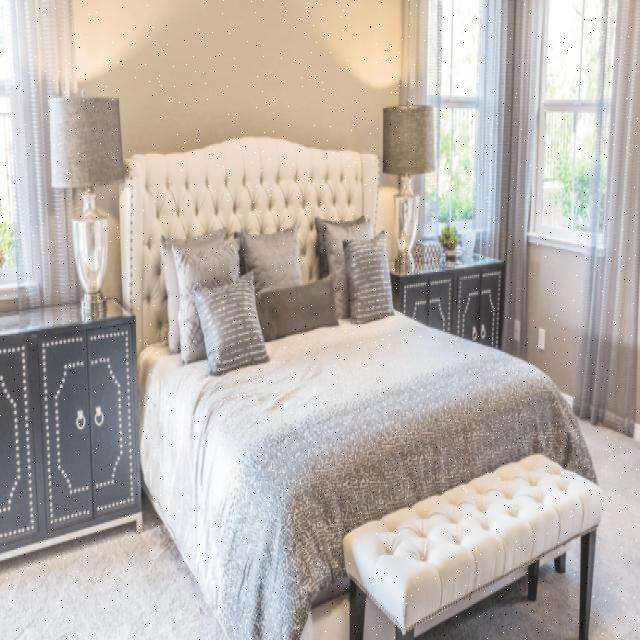bed: (126, 153, 572, 472)
